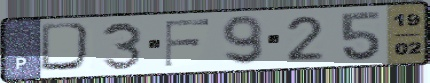2: (284, 14, 328, 63)
3: (99, 19, 145, 72)
5: (338, 9, 383, 62)
9: (218, 14, 267, 67)
D: (36, 20, 97, 74)
F: (162, 17, 213, 69)
